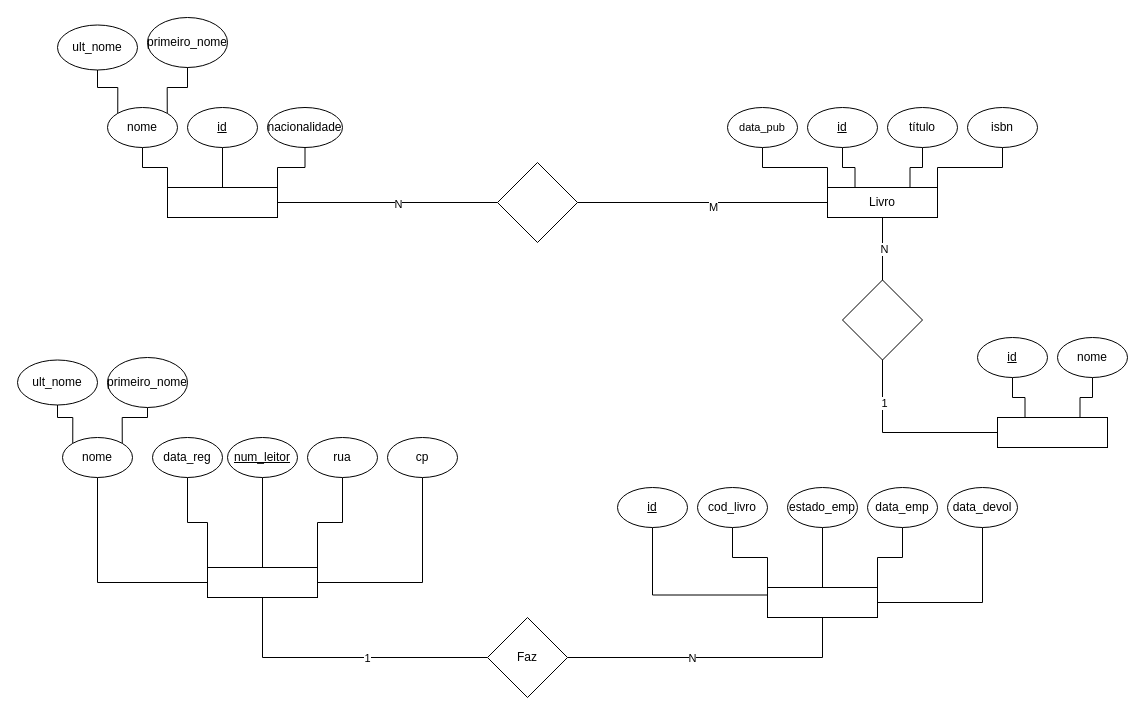
Image size: 1145x715. Some labels were removed from this diagram. Each missing label, with the centre of its shape:
"Autor" belongs at (x=222, y=202).
"Categoria" belongs at (x=1052, y=432).
"Empréstimo" belongs at (x=822, y=602).
"Escreve" belongs at (x=537, y=202).
"Leitor" belongs at (x=262, y=582).
"Tem" belongs at (x=882, y=319).
